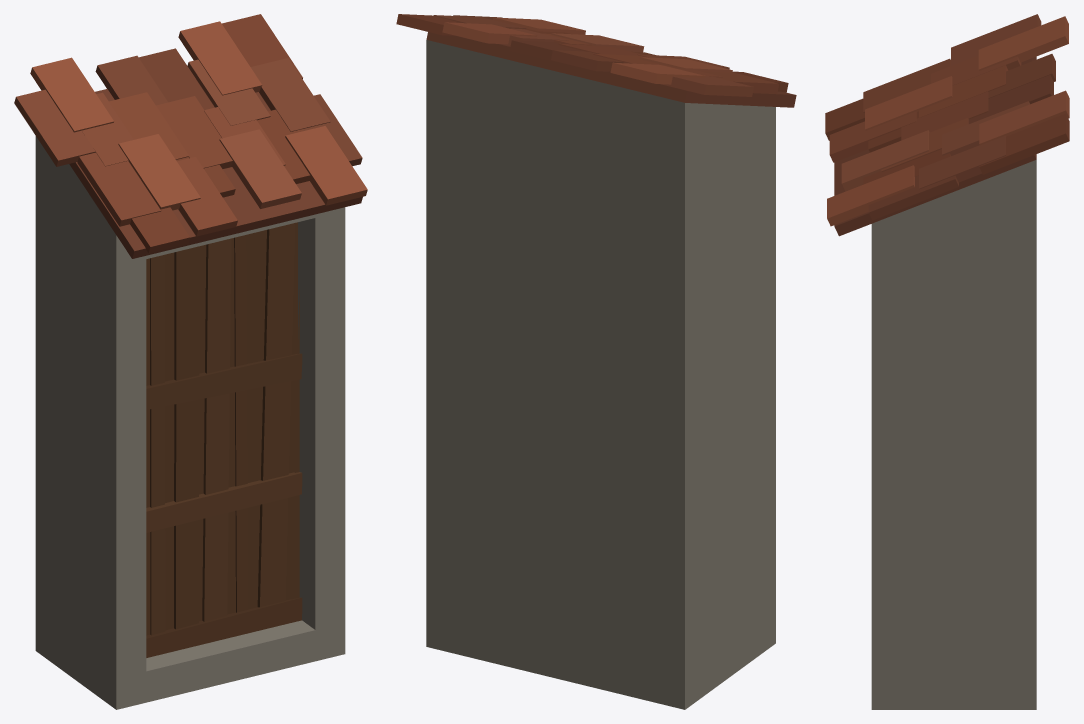
File: porch_01.glb
The picture shows the model from 3 angles, left to right: view 1: azimuth 30°, elevation 25°; view 2: azimuth 150°, elevation 25°; view 3: azimuth 270°, elevation 25°; orthographic projection. The views are drawn at different scales.
Parts seen in each view (by area): view 1: door_porch_01; view 2: door_porch_01; view 3: door_porch_01.
Part boxes in pixels (x1,y1,x2,y2): door_porch_01: (14, 14, 367, 709); door_porch_01: (396, 14, 796, 709); door_porch_01: (825, 14, 1069, 709).
Bounding box in the file's own units: 1.32 × 2.74 × 1.04.
